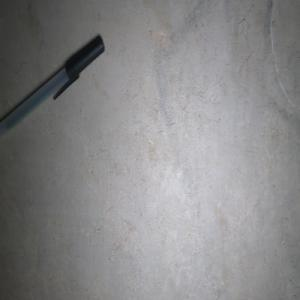Pen: (0, 35, 104, 138)
